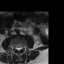CCS_normal: (18, 45, 20, 53)
LFS_normal: (22, 43, 24, 50)
LLS_normal: (20, 44, 22, 51)
RFS_normal: (14, 45, 16, 51)
RLS_normal: (16, 45, 18, 51)
